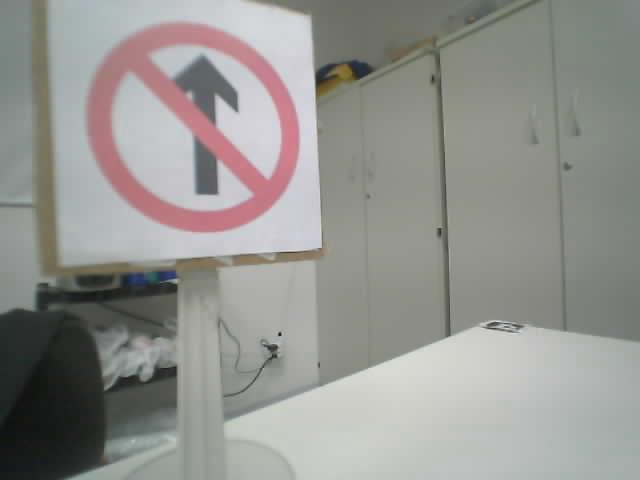R-3_sentido-proibido: (85, 20, 300, 231)
